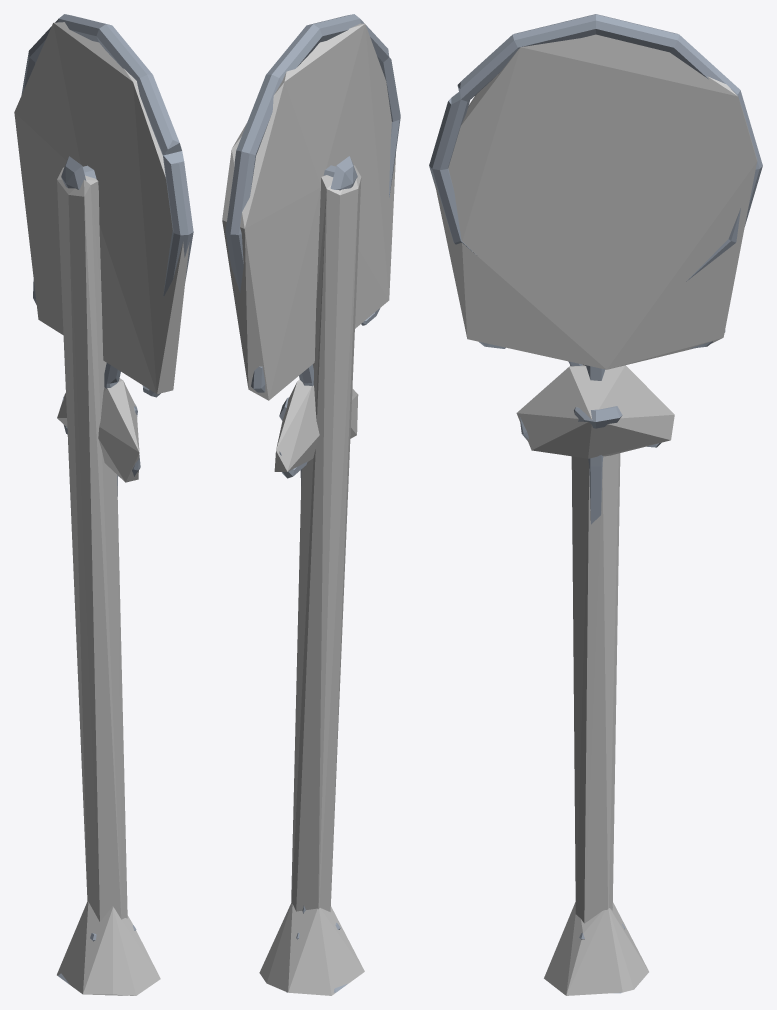
File: SM_Prop_Clock_Pole_01.fbx
3 renders of one model, left to right at view 1: azimuth 30°, elevation 25°; view 2: azimuth 150°, elevation 25°; view 3: azimuth 270°, elevation 25°, orthographic.
Parts seen in each view (by area): view 1: SM_Prop_Clock_Pole_01_ConvexHulls, SM_Prop_Clock_Pole_01; view 2: SM_Prop_Clock_Pole_01_ConvexHulls, SM_Prop_Clock_Pole_01; view 3: SM_Prop_Clock_Pole_01_ConvexHulls, SM_Prop_Clock_Pole_01.
Boxes of the visible parts, x1,y1,x2,y2 form: SM_Prop_Clock_Pole_01_ConvexHulls: (14, 22, 189, 995); SM_Prop_Clock_Pole_01: (21, 14, 193, 984); SM_Prop_Clock_Pole_01_ConvexHulls: (222, 23, 395, 995); SM_Prop_Clock_Pole_01: (225, 14, 400, 992); SM_Prop_Clock_Pole_01_ConvexHulls: (433, 34, 757, 995); SM_Prop_Clock_Pole_01: (429, 14, 762, 993).
Bounding box in the file's own units: 39.61 × 139 × 441.
2 materials, 1 textured.
